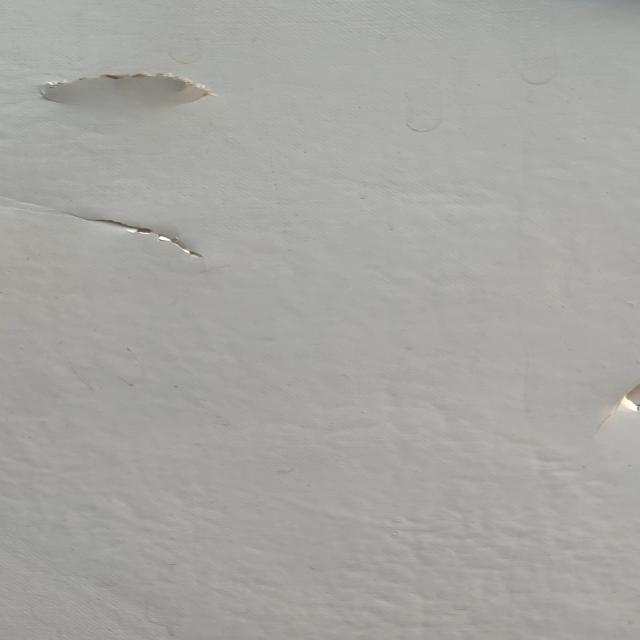Scratches: (31, 63, 227, 111), (72, 208, 210, 266), (611, 381, 640, 416)
